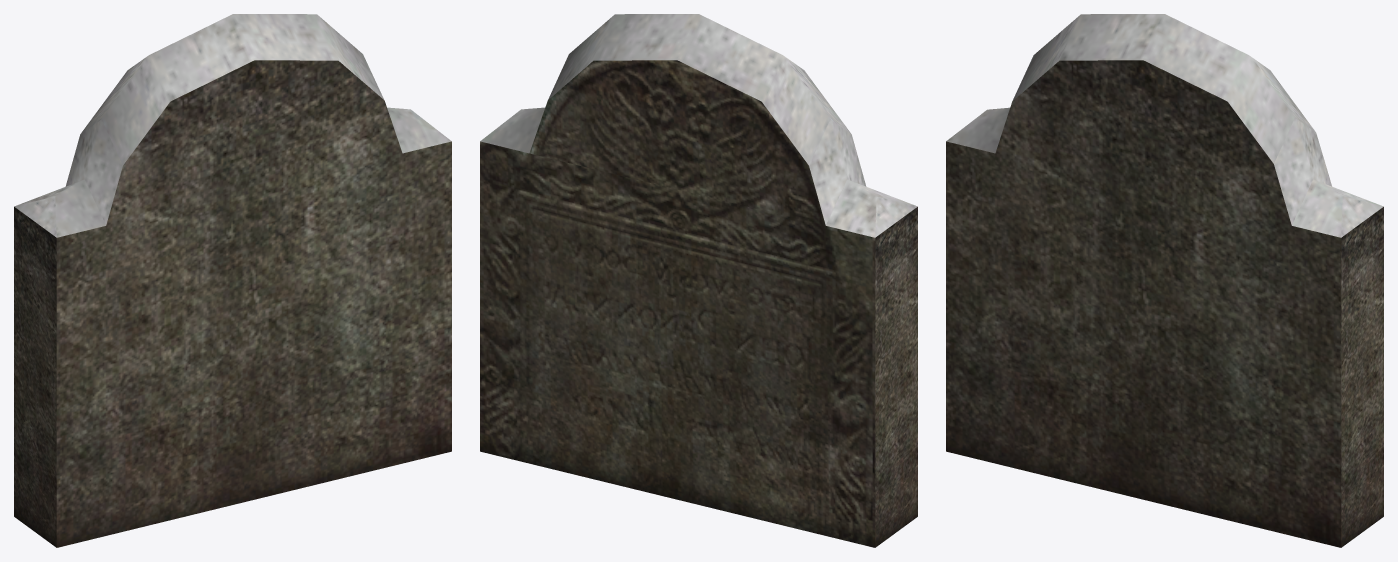
Rendered from tombstone_sm_03_snow.fbx.
3 views of the same model, side by side, from view 1: azimuth 30°, elevation 25°; view 2: azimuth 150°, elevation 25°; view 3: azimuth 330°, elevation 25° (orthographic).
Visible parts, largest first — view 1: mesh_1, mesh_2; view 2: mesh_0, mesh_2, mesh_1; view 3: mesh_1, mesh_2.
Part boxes in pixels (x1,y1,x2,y2): mesh_1: (14, 60, 451, 547); mesh_2: (14, 14, 451, 237); mesh_0: (480, 60, 875, 547); mesh_2: (480, 14, 917, 237); mesh_1: (875, 207, 917, 547); mesh_1: (946, 60, 1383, 547); mesh_2: (946, 14, 1383, 237).
Bounding box in the file's own units: 80 × 90.95 × 15.
3 materials, 3 textured.
